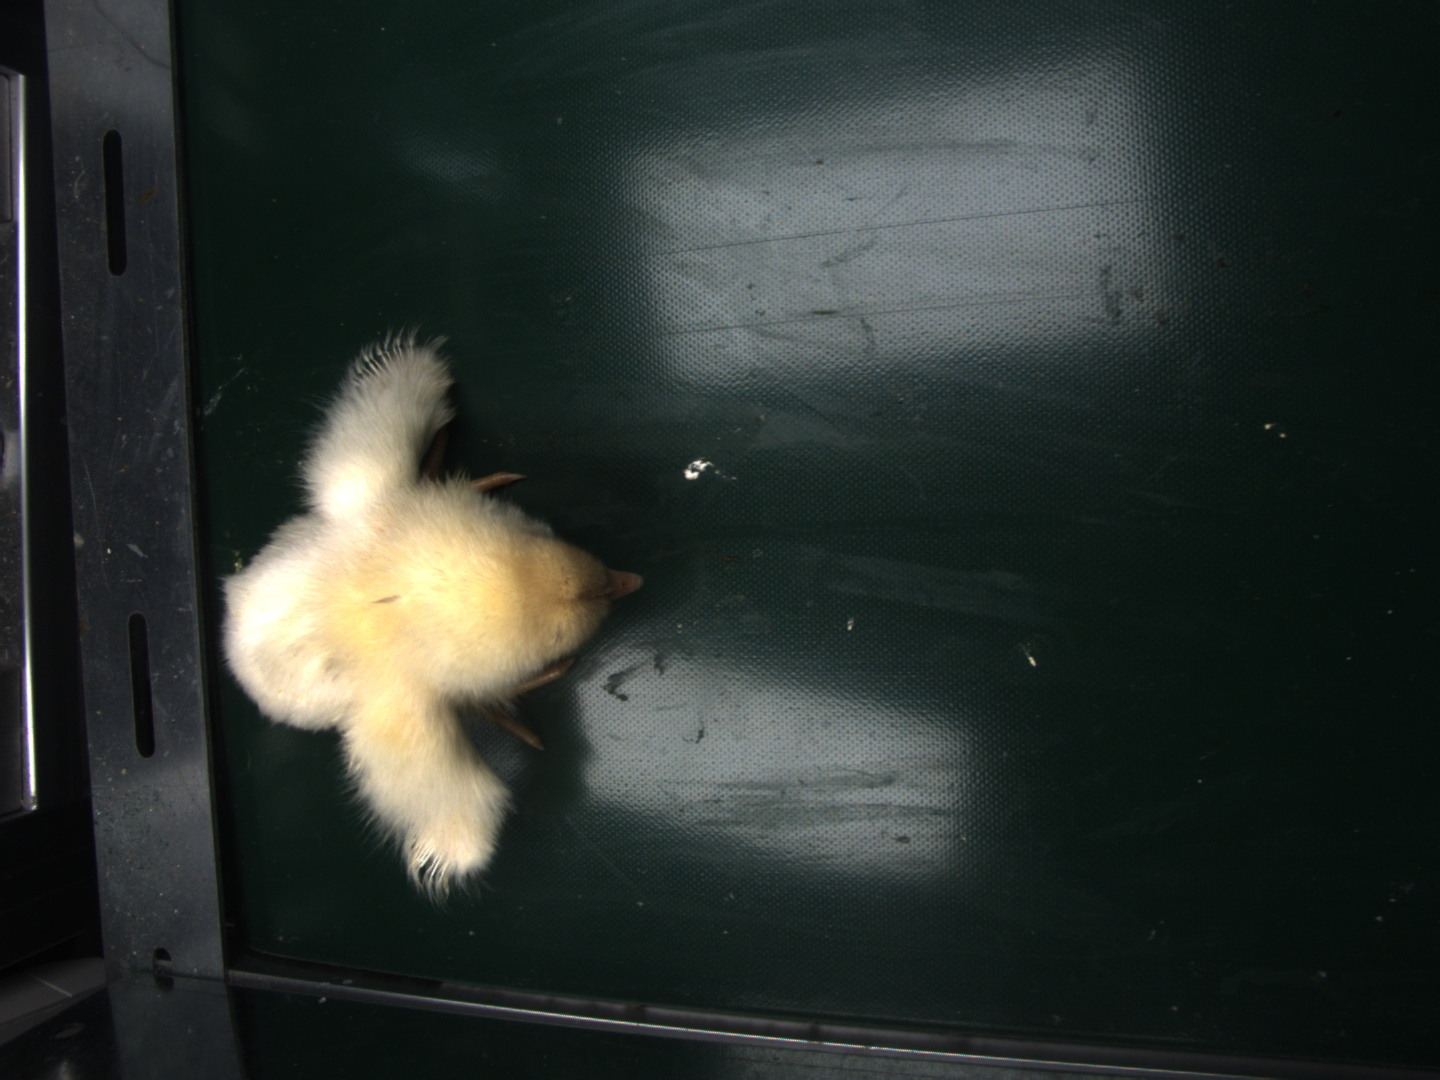male: (357, 338, 415, 381)
